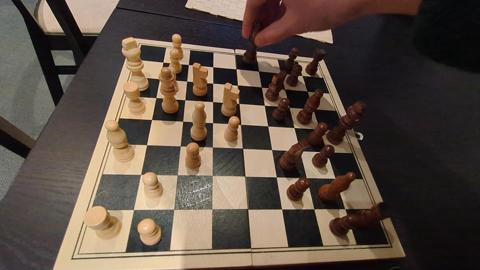xcorner: (277, 69, 286, 78), (255, 67, 264, 76), (232, 65, 241, 74), (184, 60, 193, 69), (303, 87, 312, 96), (281, 85, 290, 94), (258, 83, 267, 92), (156, 74, 165, 83), (309, 105, 318, 114), (285, 103, 294, 112), (261, 101, 270, 110), (235, 99, 244, 108), (208, 97, 217, 106), (181, 95, 190, 104), (152, 93, 161, 102), (315, 125, 324, 134), (290, 123, 299, 132), (264, 122, 273, 131), (237, 120, 246, 129), (323, 148, 332, 157), (268, 145, 277, 154), (208, 143, 217, 152), (331, 174, 340, 183), (302, 173, 311, 182), (272, 173, 281, 182), (241, 172, 250, 181), (208, 171, 217, 180), (341, 204, 350, 213), (243, 205, 252, 214), (207, 205, 216, 214), (169, 205, 178, 214), (129, 205, 138, 214), (298, 72, 307, 80), (209, 63, 218, 71), (159, 58, 168, 66), (234, 81, 242, 90), (209, 79, 217, 88), (183, 77, 192, 85), (208, 119, 217, 127), (179, 117, 187, 126), (148, 115, 156, 124), (296, 147, 305, 155), (239, 144, 247, 153), (176, 142, 185, 150), (143, 140, 151, 149), (173, 171, 182, 179), (137, 170, 145, 179), (310, 205, 319, 213), (277, 205, 286, 213)
